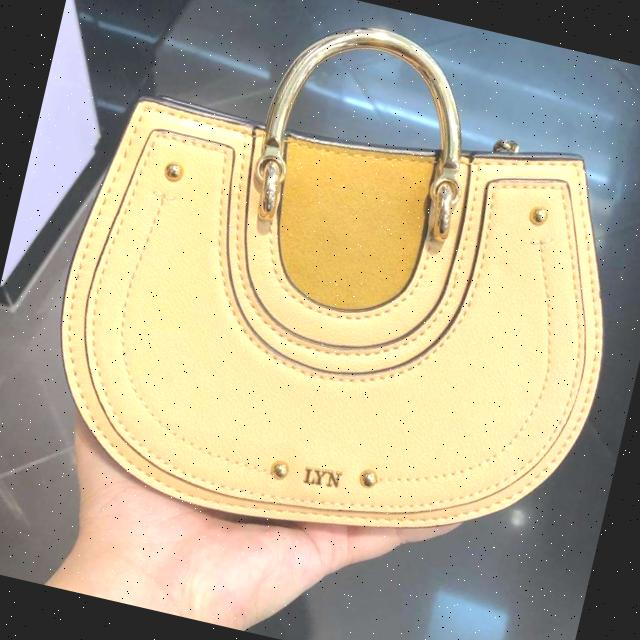handbag: (5, 27, 640, 620)
